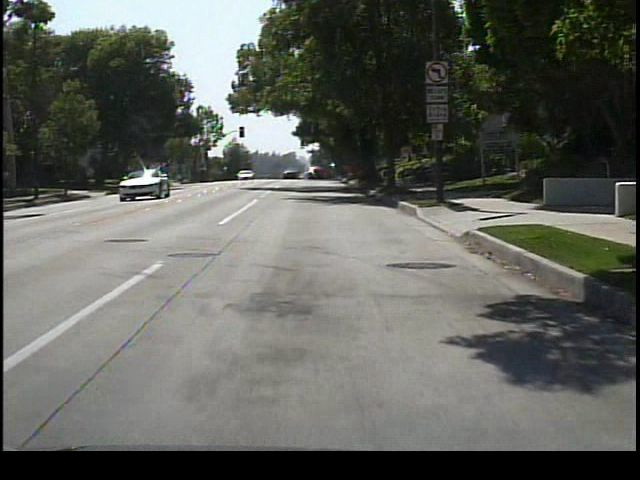person: (414, 152, 434, 167)
